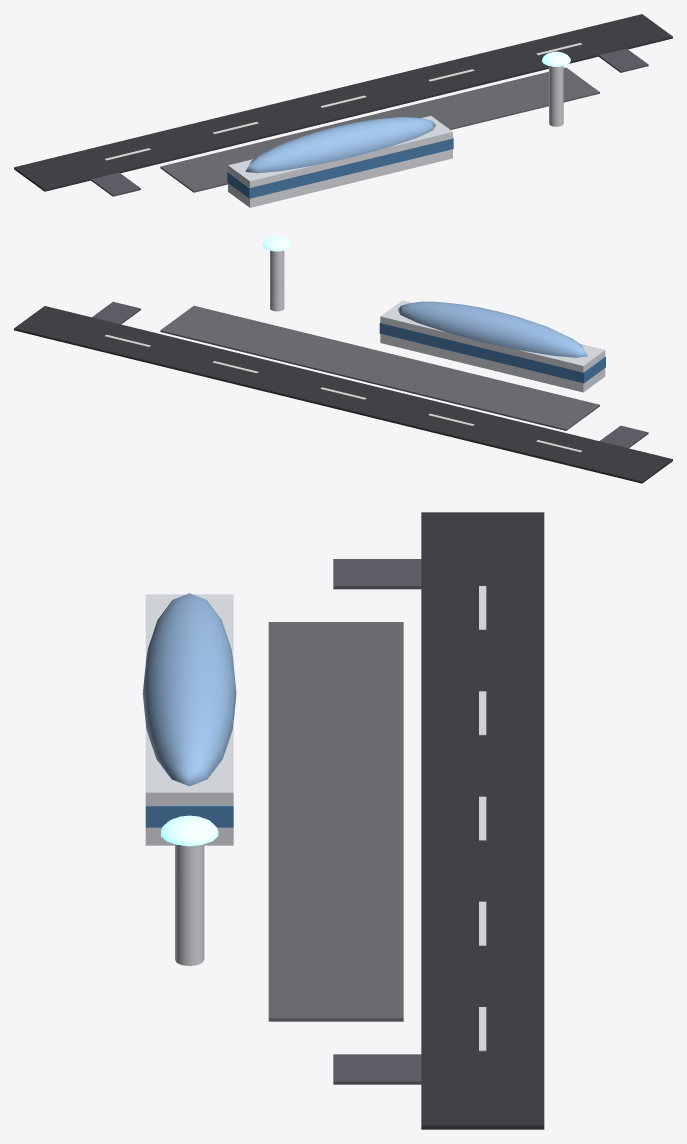
The model's file is airport_2030.glb.
The picture shows the model from 3 angles, top to bottom: view 1: azimuth 30°, elevation 25°; view 2: azimuth 150°, elevation 25°; view 3: azimuth 270°, elevation 25°; orthographic projection. The views are drawn at different scales.
Parts seen in each view (by area): view 1: Runway, Apron, TerminalDome, Terminal, TerminalGlass, Tower, TaxiwayE, TaxiwayW, Cab; view 2: Runway, Apron, TerminalDome, Terminal, TerminalGlass, Tower, TaxiwayE, TaxiwayW; view 3: Runway, Apron, TerminalDome, Terminal, Tower, TaxiwayE, TaxiwayW, TerminalGlass, Cab.
Boxes of the visible parts, x1,y1,x2,y2 form: Runway: (14,14,672,191); Apron: (160,67,599,192); TerminalDome: (245,117,435,173); Terminal: (228,116,452,207); TerminalGlass: (227,138,453,198); Tower: (549,66,563,126); TaxiwayE: (598,48,648,72); TaxiwayW: (91,172,140,196); Cab: (542,51,570,66); Runway: (14,306,672,483); Apron: (160,305,599,430); TerminalDome: (398,301,587,357); Terminal: (380,300,605,392); TerminalGlass: (379,323,605,383); Tower: (270,250,284,311); TaxiwayE: (92,301,140,324); TaxiwayW: (599,425,648,448); Runway: (421,512,544,1129); Apron: (268,622,403,1021); TerminalDome: (142,593,236,786); Terminal: (145,594,233,845); Tower: (175,844,204,965); TaxiwayE: (333,1054,421,1084); TaxiwayW: (333,559,421,589); TerminalGlass: (145,806,233,827); Cab: (161,815,218,845).
Bounding box in the file's own units: 9.9 × 1.05 × 2.74.
